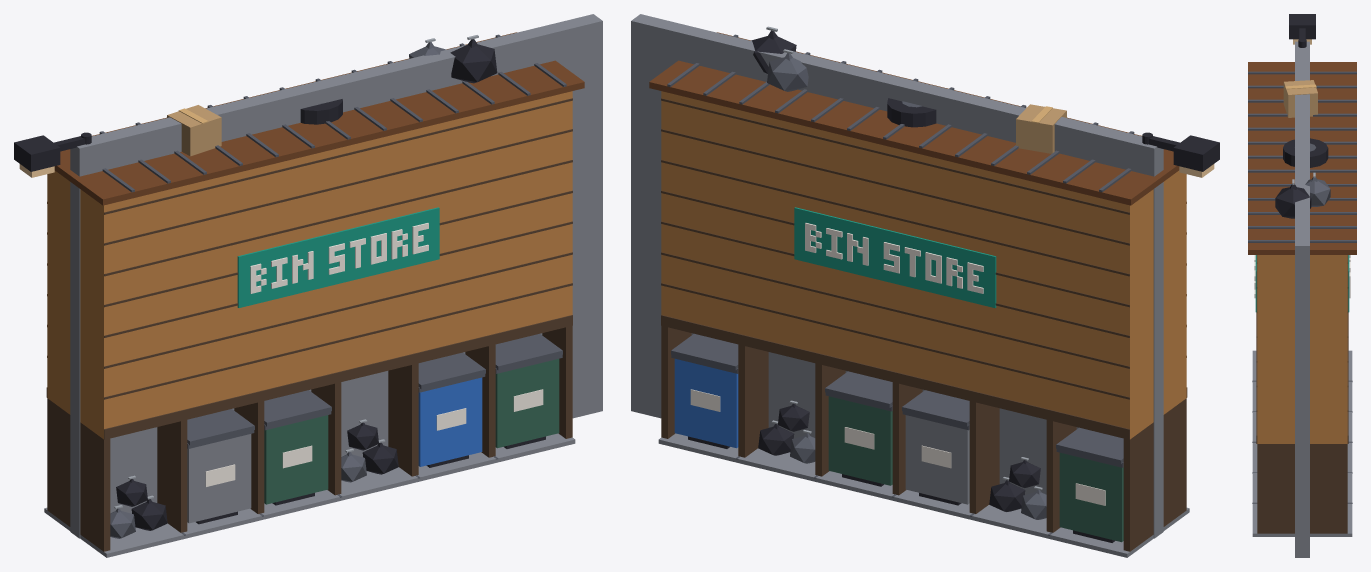
File: CatCafe_Alley_Blocker_Bins.glb
The picture shows the model from 3 angles, left to right: view 1: azimuth 30°, elevation 25°; view 2: azimuth 150°, elevation 25°; view 3: azimuth 270°, elevation 25°; orthographic projection. The views are drawn at different scales.
Visible parts, largest first — view 1: CatCafe_Alley_Blocker_Bins, CatCafe_Alley_Blocker_Bins_Barrier; view 2: CatCafe_Alley_Blocker_Bins, CatCafe_Alley_Blocker_Bins_Barrier; view 3: CatCafe_Alley_Blocker_Bins, CatCafe_Alley_Blocker_Bins_Barrier.
Boxes of the visible parts, <box> form: CatCafe_Alley_Blocker_Bins: <box>14,32,584,557</box>; CatCafe_Alley_Blocker_Bins_Barrier: <box>70,14,602,538</box>; CatCafe_Alley_Blocker_Bins: <box>649,26,1219,557</box>; CatCafe_Alley_Blocker_Bins_Barrier: <box>631,14,1163,538</box>; CatCafe_Alley_Blocker_Bins: <box>1248,14,1356,536</box>; CatCafe_Alley_Blocker_Bins_Barrier: <box>1295,41,1309,557</box>.
Size of the model in its own units: 17.6 by 11.9 by 3.6.
1 material, 1 textured.
